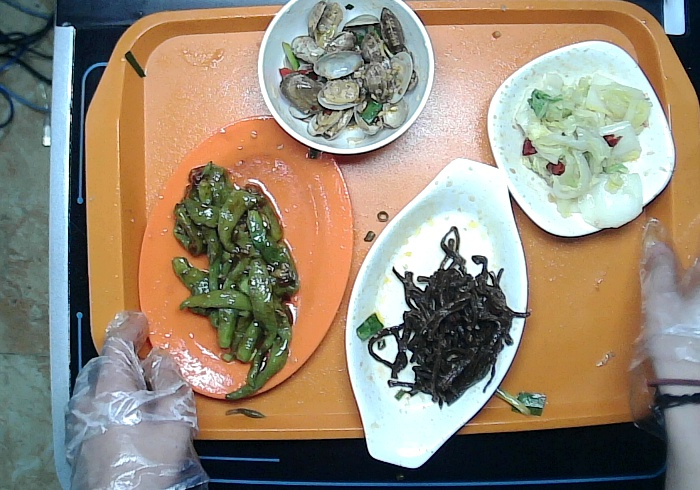NLDX-Bai_Se_Xiao_Fang_Die: (485, 38, 678, 241)
NLDX-Fan_Wan: (255, 1, 436, 155)
NLDX-Ju_Se_Pan: (136, 111, 355, 403)
NLDX-Yu_Pan: (343, 155, 529, 470)
